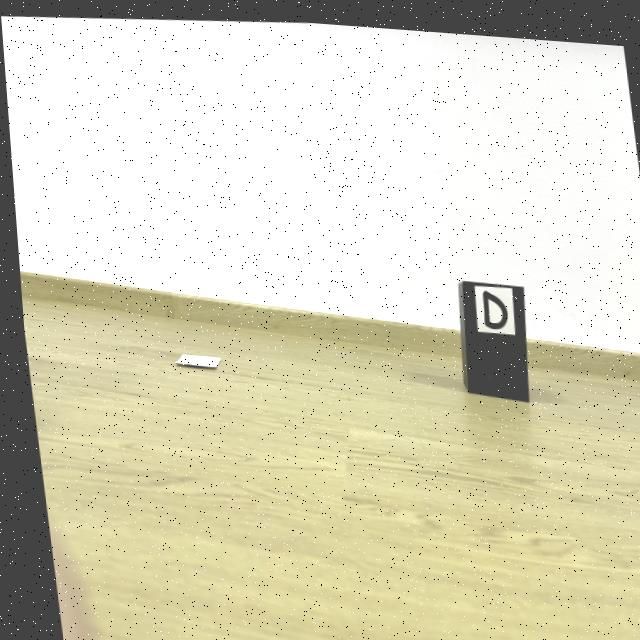D: (478, 283, 504, 323)
